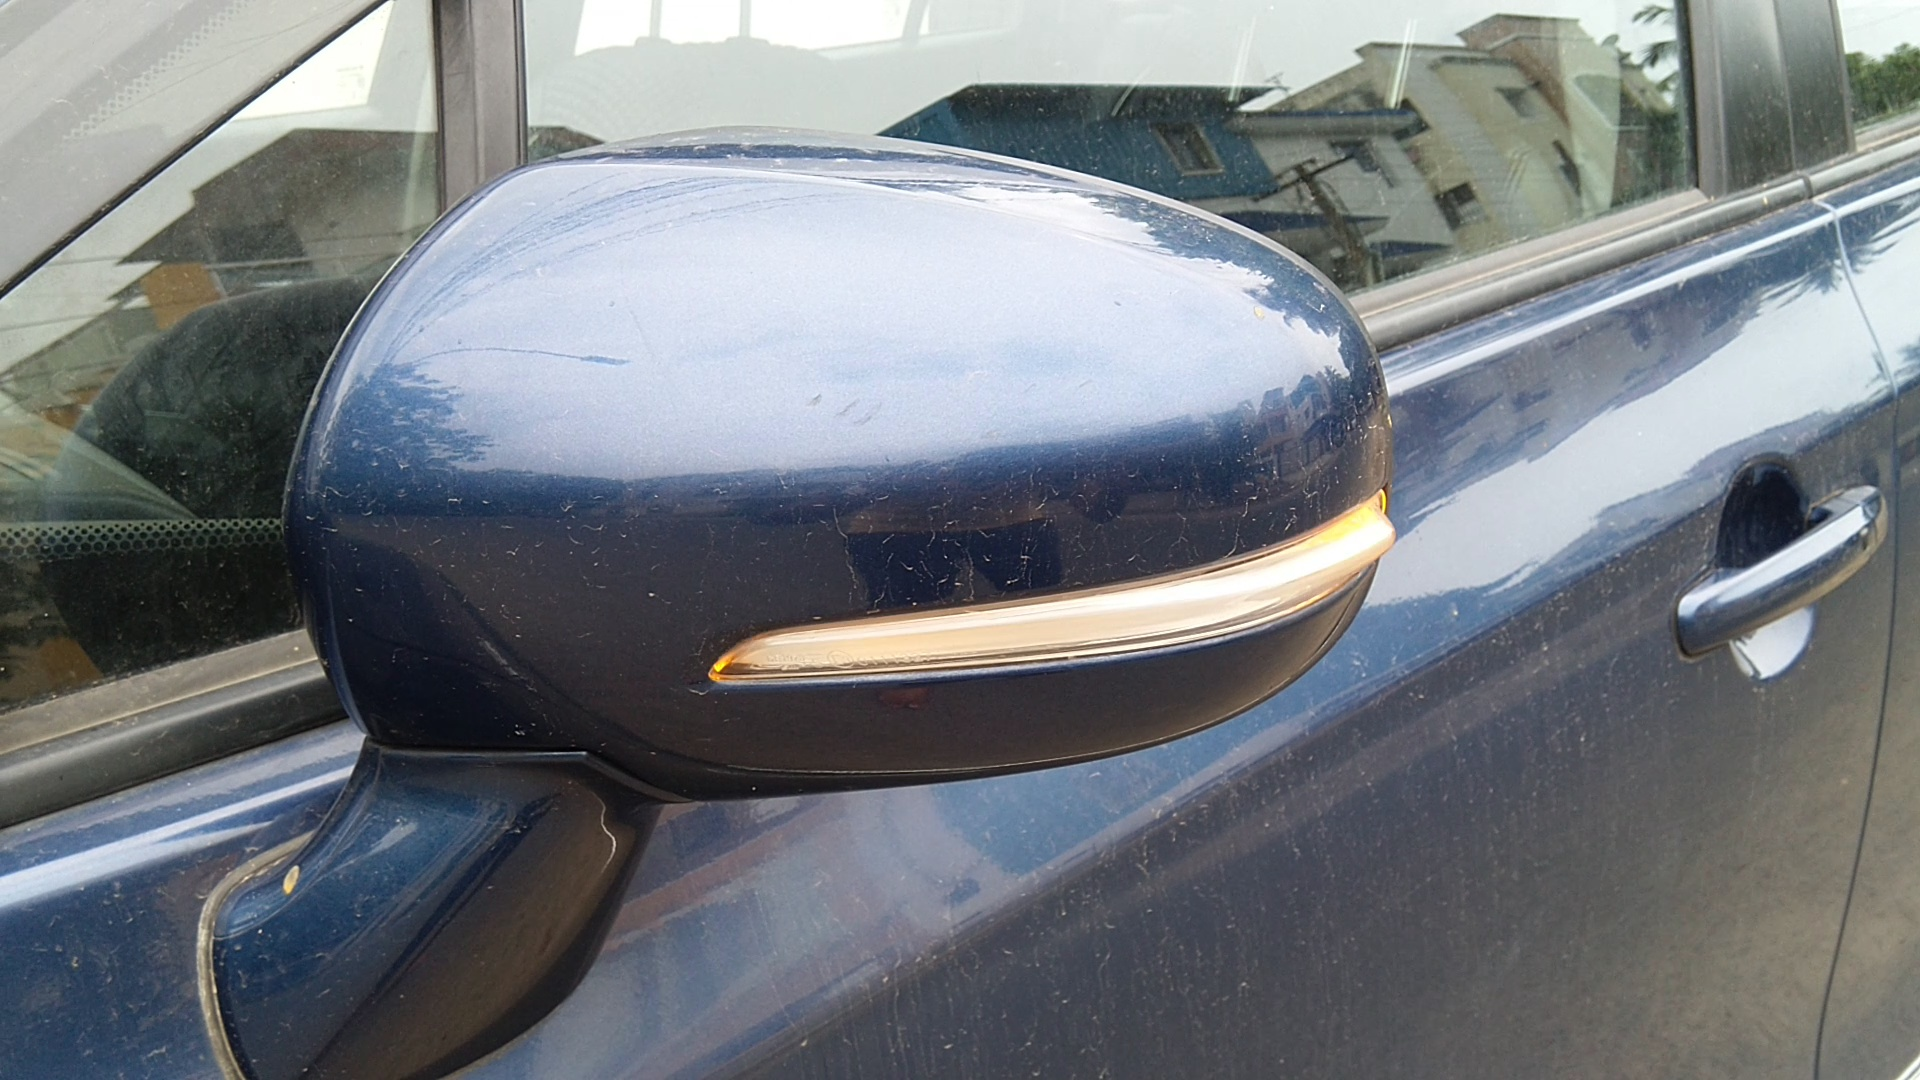ovr_mirror: (166, 51, 1408, 1080)
